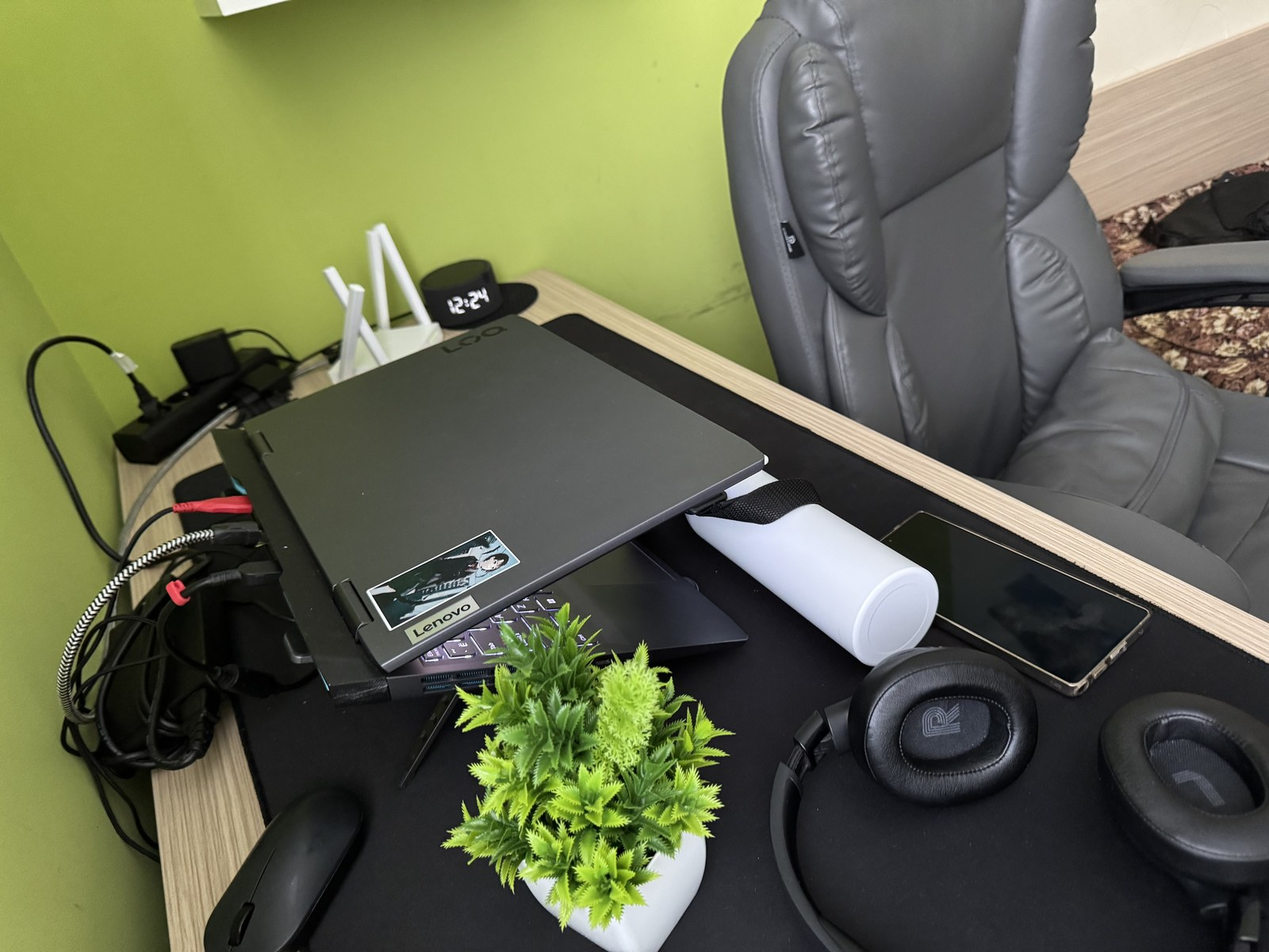cell phone: (878, 509, 1153, 697)
laptop: (210, 313, 769, 709)
